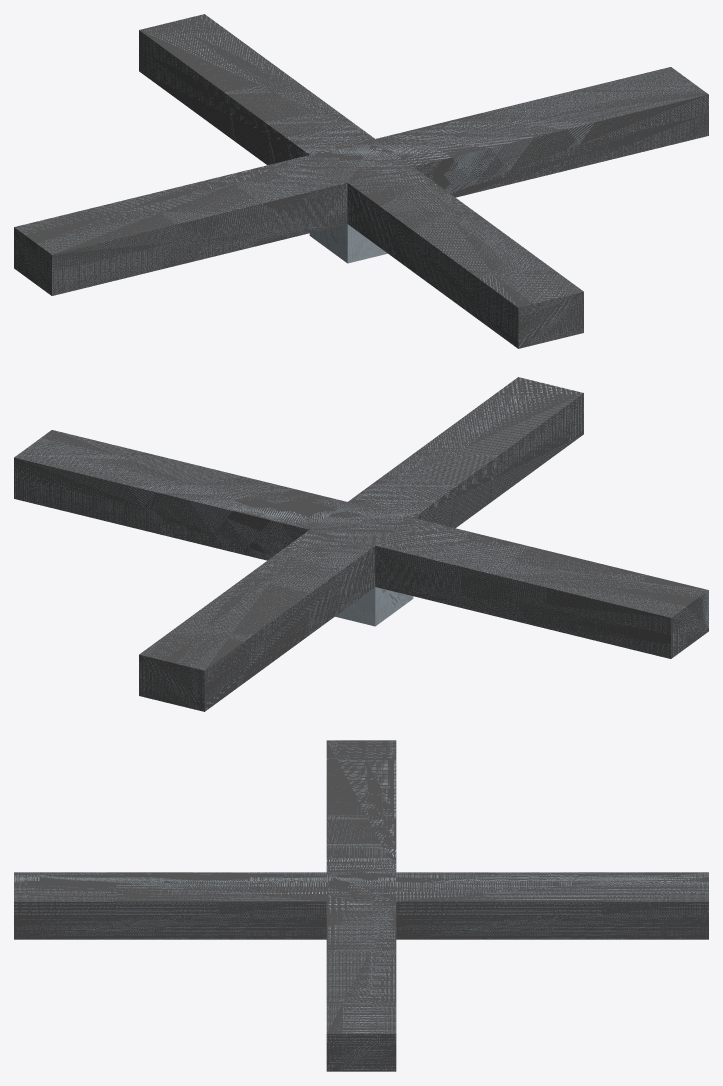
The model's file is helibladesback.obj.
3 views of the same model, one above another, from view 1: azimuth 30°, elevation 25°; view 2: azimuth 150°, elevation 25°; view 3: azimuth 270°, elevation 25° (orthographic). The views are drawn at different scales.
Visible parts, largest first — view 1: Mesh1 Group1 Model; view 2: Mesh1 Group1 Model; view 3: Mesh1 Group1 Model.
Boxes of the visible parts, x1,y1,x2,y2 form: Mesh1 Group1 Model: (14, 14, 708, 348); Mesh1 Group1 Model: (14, 377, 708, 711); Mesh1 Group1 Model: (14, 740, 708, 1071).
Bounding box in the file's own units: 10 × 1.17 × 10.
